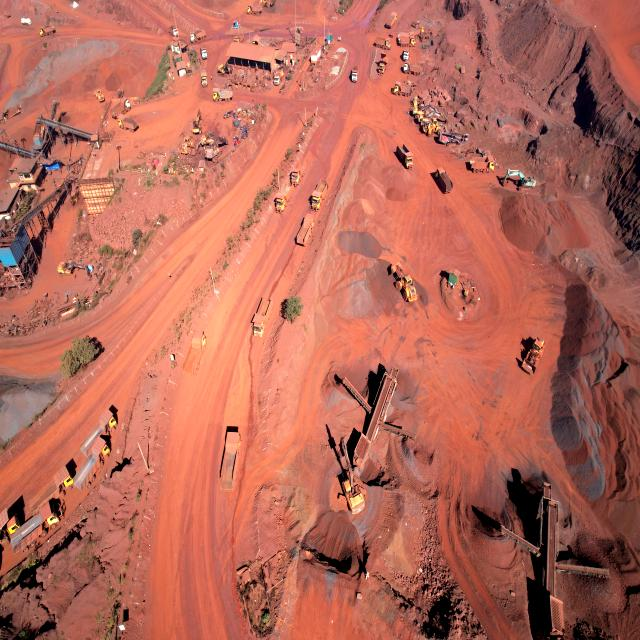Blast rig: (440, 130, 468, 147)
Dumper truck: (5, 506, 42, 541), (221, 428, 239, 485), (39, 473, 76, 498), (188, 327, 206, 371), (84, 440, 110, 466), (92, 410, 118, 435), (32, 504, 58, 529), (296, 215, 315, 245), (251, 307, 270, 337), (273, 188, 292, 212), (289, 162, 308, 185), (434, 168, 452, 191), (471, 156, 495, 172), (397, 146, 413, 167), (114, 98, 130, 117), (310, 184, 322, 209), (118, 114, 134, 132), (213, 88, 232, 101), (38, 24, 55, 36), (398, 36, 414, 46), (409, 24, 425, 34), (404, 64, 420, 74), (392, 84, 408, 94), (385, 14, 397, 27), (190, 31, 204, 42), (375, 38, 390, 48), (248, 6, 262, 15), (169, 25, 178, 37), (377, 61, 386, 72), (351, 69, 358, 82), (201, 75, 208, 86), (402, 50, 409, 60), (202, 50, 208, 59)
Excavator: (335, 428, 367, 517), (58, 260, 90, 280), (206, 135, 228, 163), (505, 172, 536, 188), (192, 109, 202, 136), (199, 132, 214, 148), (217, 62, 232, 74), (412, 105, 429, 115), (419, 113, 441, 120)
